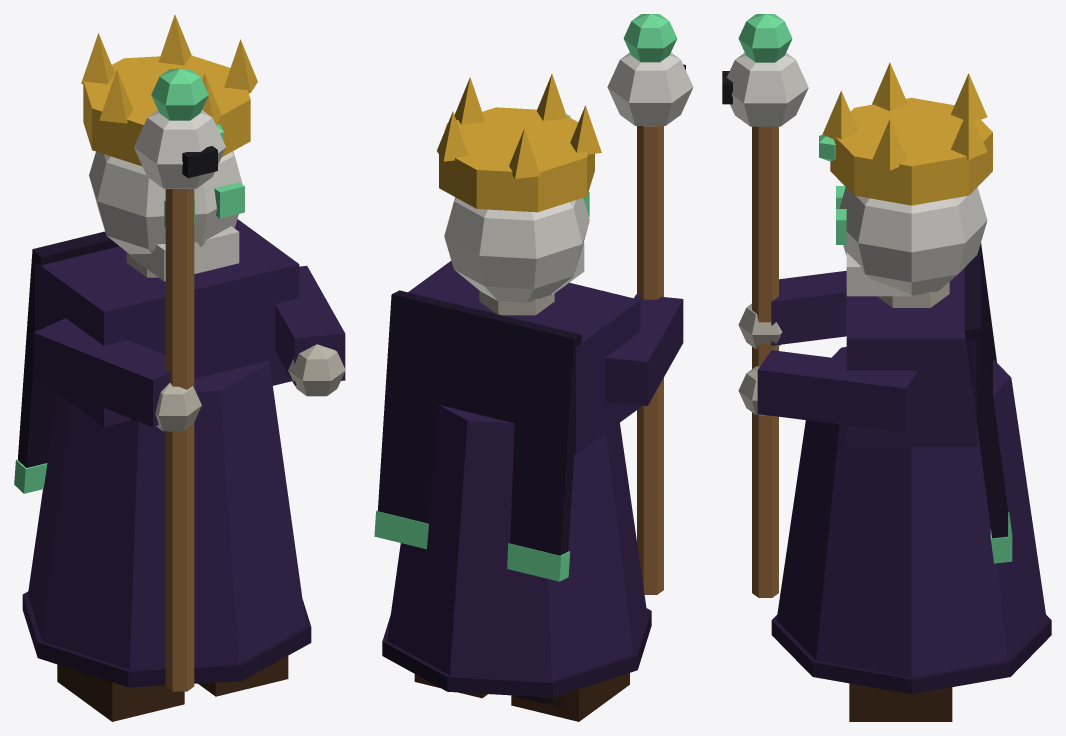
File: b_lich.fbx
3 views of the same model, side by side, from view 1: azimuth 30°, elevation 25°; view 2: azimuth 150°, elevation 25°; view 3: azimuth 270°, elevation 25° (orthographic). The views are drawn at different scales.
Parts seen in each view (by area): view 1: b_lich_Body, b_lich_ArmR, b_lich_ArmL, b_lich_LegR, b_lich_LegL; view 2: b_lich_Body, b_lich_ArmR, b_lich_LegR; view 3: b_lich_Body, b_lich_ArmR, b_lich_ArmL, b_lich_LegL.
Part boxes in pixels (x1,y1,x2,y2): b_lich_Body: [14, 14, 311, 687]; b_lich_ArmR: [33, 68, 225, 691]; b_lich_ArmL: [275, 266, 345, 396]; b_lich_LegR: [57, 664, 184, 721]; b_lich_LegL: [198, 656, 288, 696]; b_lich_Body: [374, 73, 651, 697]; b_lich_ArmR: [605, 14, 693, 594]; b_lich_LegR: [511, 673, 629, 721]; b_lich_Body: [771, 62, 1051, 694]; b_lich_ArmR: [722, 14, 846, 597]; b_lich_ArmL: [738, 350, 918, 432]; b_lich_LegL: [849, 683, 952, 721].
Size of the model in its own units: 0.5472 by 1.3 by 0.6088.
